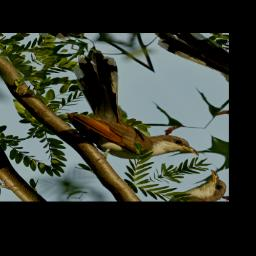Cuckoo: (22, 47, 201, 181)
